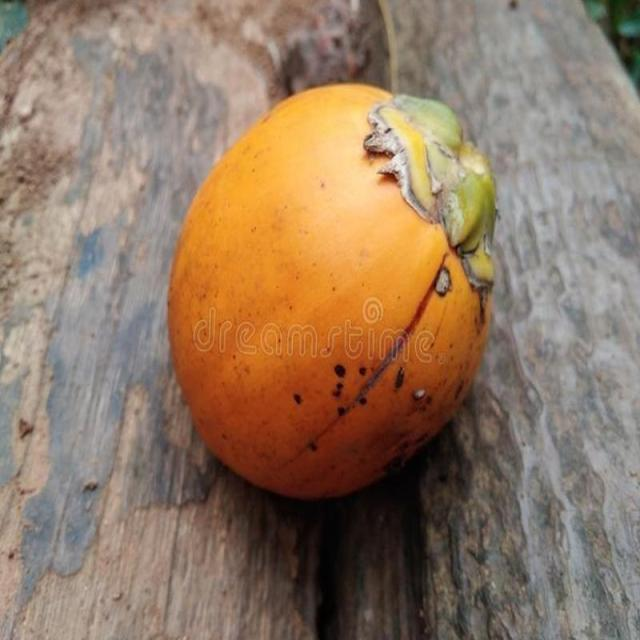good: (166, 83, 496, 502)
